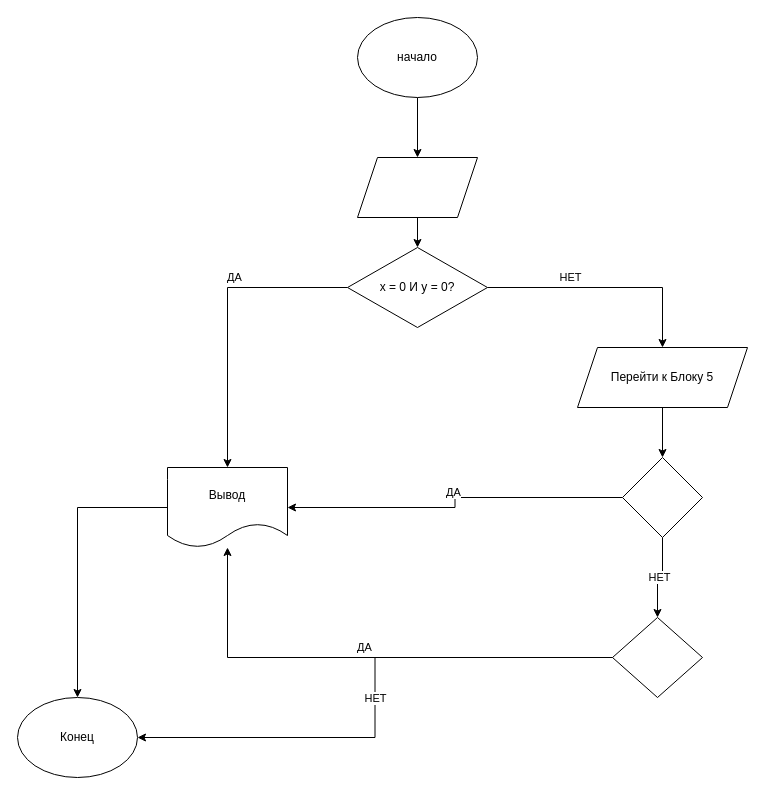
This 765x795 diagram has some shape labels left out. Here are the shapes that lost their labels. From the top down, the box of each, then its label:
(356, 156, 478, 218): Ввод x, y
(622, 456, 702, 538): y = 0
(612, 616, 702, 698): x = 0
